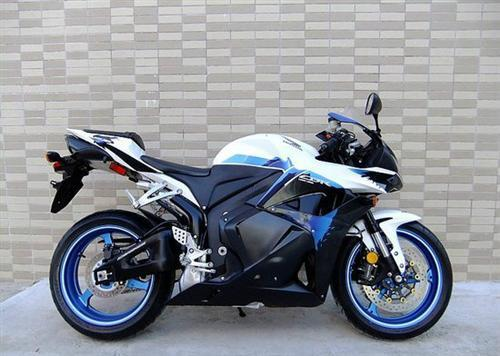摩托车: (31, 113, 459, 346)
